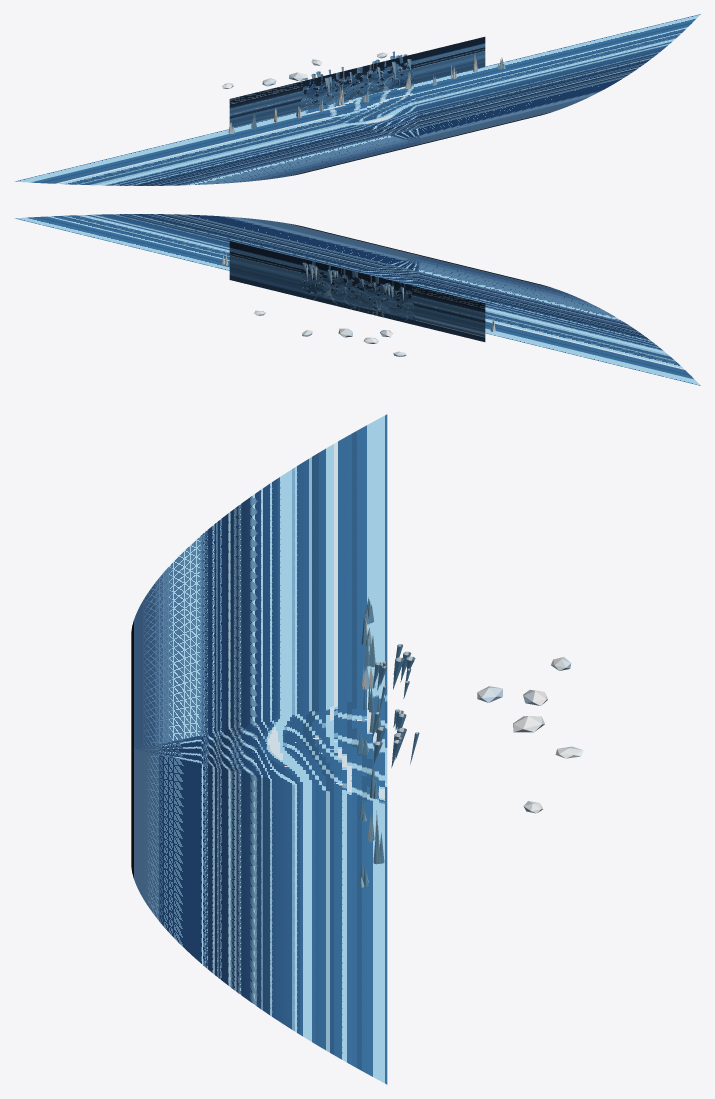
Rendered from bg_cavewater_ice.glb.
3 renders of one model, top to bottom at view 1: azimuth 30°, elevation 25°; view 2: azimuth 150°, elevation 25°; view 3: azimuth 270°, elevation 25°, orthographic. The views are drawn at different scales.
Visible parts, largest first — view 1: cave_sea, cw_wall, cw_decor, icicles; view 2: cave_sea, cw_wall, cw_decor, icicles; view 3: cave_sea, cw_decor, icicles.
Part boxes in pixels (<box>): cave_sea: <box>15,14,700,185</box>; cw_wall: <box>229,37,485,127</box>; cw_decor: <box>222,52,505,133</box>; icicles: <box>304,51,411,92</box>; cave_sea: <box>15,214,700,385</box>; cw_wall: <box>229,241,485,341</box>; cw_decor: <box>222,253,495,356</box>; icicles: <box>302,260,403,300</box>; cave_sea: <box>131,414,387,1084</box>; cw_decor: <box>357,597,583,887</box>; icicles: <box>371,644,419,767</box>.
Size of the model in its own units: 80 by 4.34 by 22.8.
Materials: 6 (2 with a texture image).
